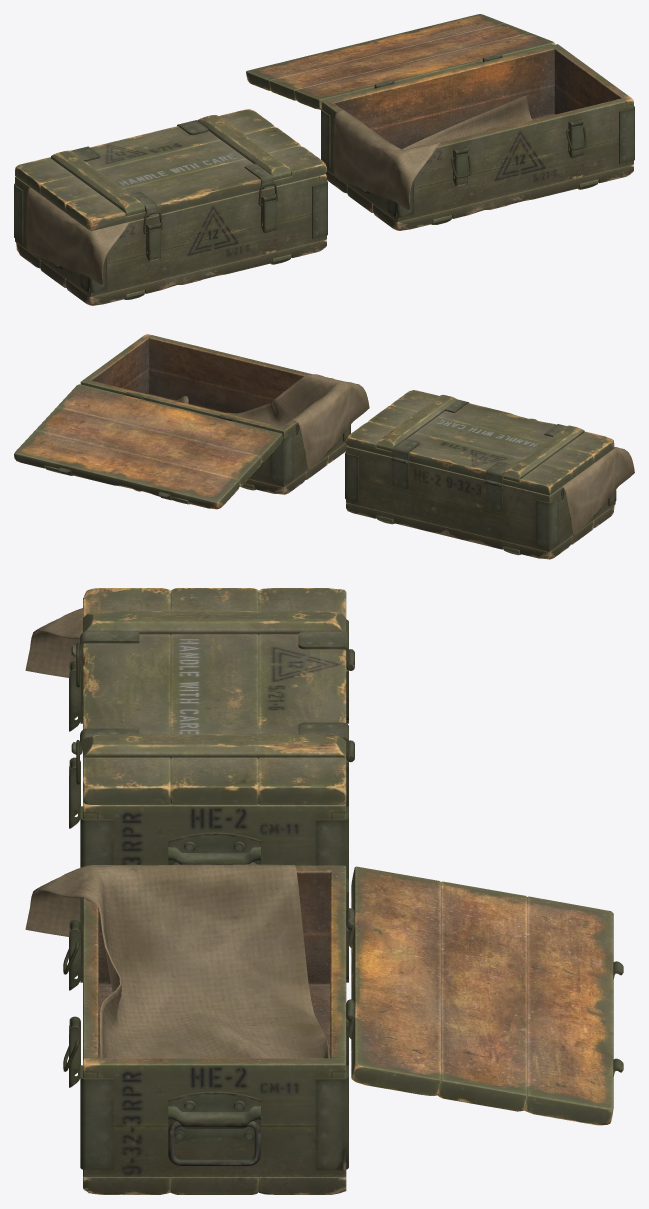
The model's file is old_military_crate.glb.
3 views of the same model, one above another, from view 1: azimuth 30°, elevation 25°; view 2: azimuth 150°, elevation 25°; view 3: azimuth 270°, elevation 25° (orthographic). The views are drawn at different scales.
Parts seen in each view (by area): view 1: old_military_crate_b, old_military_crate_lid_a, old_military_crate_a, old_military_crate_lid_b, old_military_crate_cloth_b, old_military_crate_cloth_a, old_military_crate_latch_a, old_military_crate_latch_b; view 2: old_military_crate_lid_b, old_military_crate_lid_a, old_military_crate_a, old_military_crate_b, old_military_crate_cloth_b, old_military_crate_cloth_a; view 3: old_military_crate_lid_a, old_military_crate_lid_b, old_military_crate_b, old_military_crate_cloth_b, old_military_crate_a, old_military_crate_cloth_a, old_military_crate_latch_b, old_military_crate_latch_a.
Part boxes in pixels (left/top/right/bottom): old_military_crate_b: left=321, top=44, right=634, bottom=230; old_military_crate_lid_a: left=15, top=109, right=326, bottom=230; old_military_crate_a: left=14, top=174, right=327, bottom=305; old_military_crate_lid_b: left=246, top=14, right=555, bottom=109; old_military_crate_cloth_b: left=333, top=95, right=532, bottom=209; old_military_crate_cloth_a: left=26, top=187, right=129, bottom=284; old_military_crate_latch_a: left=146, top=194, right=276, bottom=261; old_military_crate_latch_b: left=453, top=119, right=583, bottom=186; old_military_crate_lid_b: left=14, top=384, right=282, bottom=509; old_military_crate_lid_a: left=346, top=390, right=614, bottom=495; old_military_crate_a: left=345, top=446, right=616, bottom=559; old_military_crate_b: left=80, top=334, right=350, bottom=494; old_military_crate_cloth_b: left=174, top=374, right=369, bottom=470; old_military_crate_cloth_a: left=562, top=447, right=634, bottom=535; old_military_crate_lid_a: left=71, top=588, right=354, bottom=804; old_military_crate_lid_b: left=346, top=866, right=623, bottom=1125; old_military_crate_b: left=80, top=865, right=354, bottom=1194; old_military_crate_cloth_b: left=25, top=864, right=329, bottom=1058; old_military_crate_a: left=80, top=619, right=354, bottom=879; old_military_crate_cloth_a: left=25, top=608, right=82, bottom=677; old_military_crate_latch_b: left=69, top=919, right=80, bottom=1087; old_military_crate_latch_a: left=69, top=660, right=80, bottom=828.
Size of the model in its own units: 1.82 by 0.301 by 0.9757.
1 material, 1 textured.
